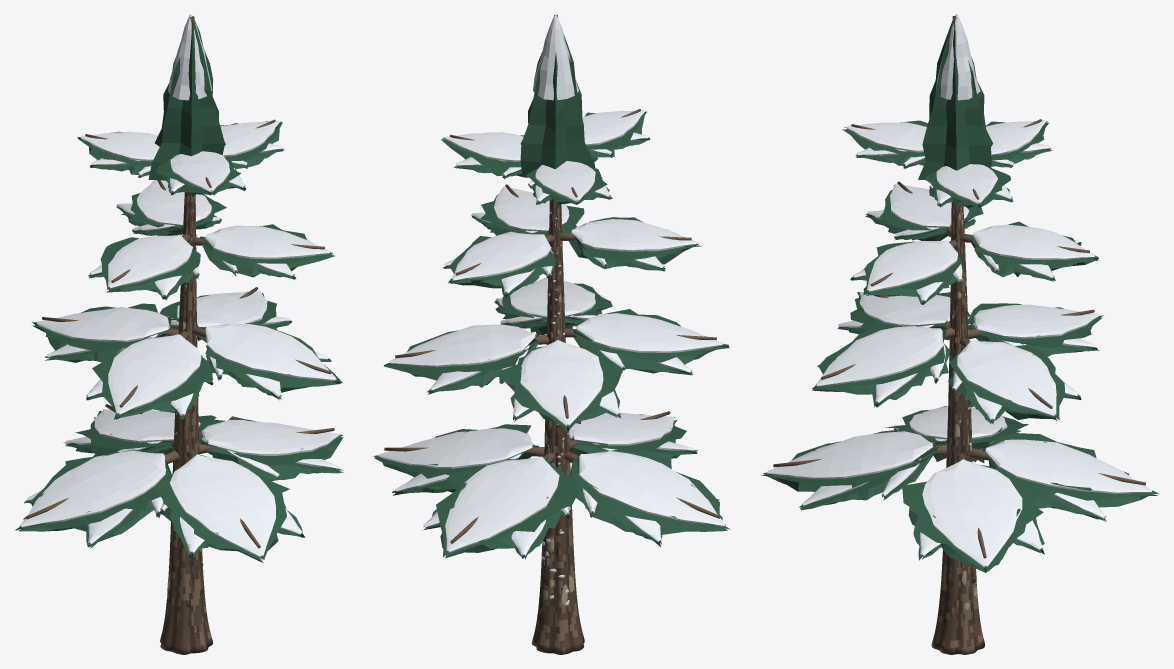
Rendered from pine_tree.glb.
3 renders of one model, left to right at view 1: azimuth 30°, elevation 25°; view 2: azimuth 150°, elevation 25°; view 3: azimuth 270°, elevation 25°, orthographic.
Parts seen in each view (by area): view 1: 노충돌_눈_04, 기둥_main, 노충돌_눈_03, 노충돌_눈_07, 노충돌_눈_08, 노충돌_솔잎_꼭대기, 노충돌_눈_01, 노충돌_눈_06, 노충돌_눈_10, 노충돌_눈_11, 노충돌_솔잎_04, 노충돌_솔잎_03 (+19 smaller); view 2: 기둥_main, 노충돌_눈_02, 노충돌_눈_03, 노충돌_눈_06, 노충돌_솔잎_꼭대기, 노충돌_눈_01, 노충돌_눈_05, 노충돌_눈_07, 노충돌_솔잎_02, 노충돌_눈_09, 노충돌_솔잎_03, 노충돌_눈_10 (+20 smaller); view 3: 노충돌_눈_01, 기둥_main, 노충돌_눈_04, 노충돌_눈_02, 노충돌_솔잎_꼭대기, 노충돌_눈_05, 노충돌_눈_08, 노충돌_눈_11, 노충돌_눈_06, 노충돌_눈_09, 노충돌_솔잎_01, 노충돌_솔잎_04 (+19 smaller).
Boxes of the visible parts, x1,y1,x2,y2 form: 노충돌_눈_04: [160, 454, 302, 557]; 기둥_main: [160, 16, 212, 654]; 노충돌_눈_03: [20, 450, 165, 544]; 노충돌_눈_07: [86, 334, 212, 415]; 노충돌_눈_08: [205, 323, 336, 396]; 노충돌_솔잎_꼭대기: [148, 20, 225, 180]; 노충돌_눈_01: [201, 420, 341, 476]; 노충돌_눈_06: [36, 307, 169, 357]; 노충돌_눈_10: [90, 234, 199, 296]; 노충돌_눈_11: [205, 225, 330, 276]; 노충돌_솔잎_04: [154, 453, 305, 562]; 노충돌_솔잎_03: [15, 449, 171, 548]; 기둥_main: [531, 15, 584, 654]; 노충돌_눈_02: [423, 456, 569, 556]; 노충돌_눈_03: [579, 450, 725, 541]; 노충돌_눈_06: [513, 340, 620, 426]; 노충돌_솔잎_꼭대기: [520, 33, 598, 177]; 노충돌_눈_01: [378, 428, 533, 491]; 노충돌_눈_05: [389, 324, 535, 390]; 노충돌_눈_07: [576, 313, 722, 372]; 노충돌_솔잎_02: [422, 456, 579, 559]; 노충돌_눈_09: [444, 233, 552, 293]; 노충돌_솔잎_03: [570, 449, 730, 546]; 노충돌_눈_10: [571, 219, 697, 268]; 노충돌_눈_01: [911, 459, 1042, 567]; 기둥_main: [931, 16, 984, 654]; 노충돌_눈_04: [767, 431, 933, 506]; 노충돌_눈_02: [985, 439, 1152, 518]; 노충돌_솔잎_꼭대기: [918, 16, 993, 179]; 노충돌_눈_05: [952, 340, 1078, 420]; 노충돌_눈_08: [816, 326, 945, 403]; 노충돌_눈_11: [853, 240, 962, 301]; 노충돌_눈_06: [973, 304, 1099, 347]; 노충돌_눈_09: [973, 224, 1095, 278]; 노충돌_솔잎_01: [902, 457, 1044, 572]; 노충돌_솔잎_04: [761, 428, 939, 510].
Bounding box in the file's own units: 200 × 349 × 200.
